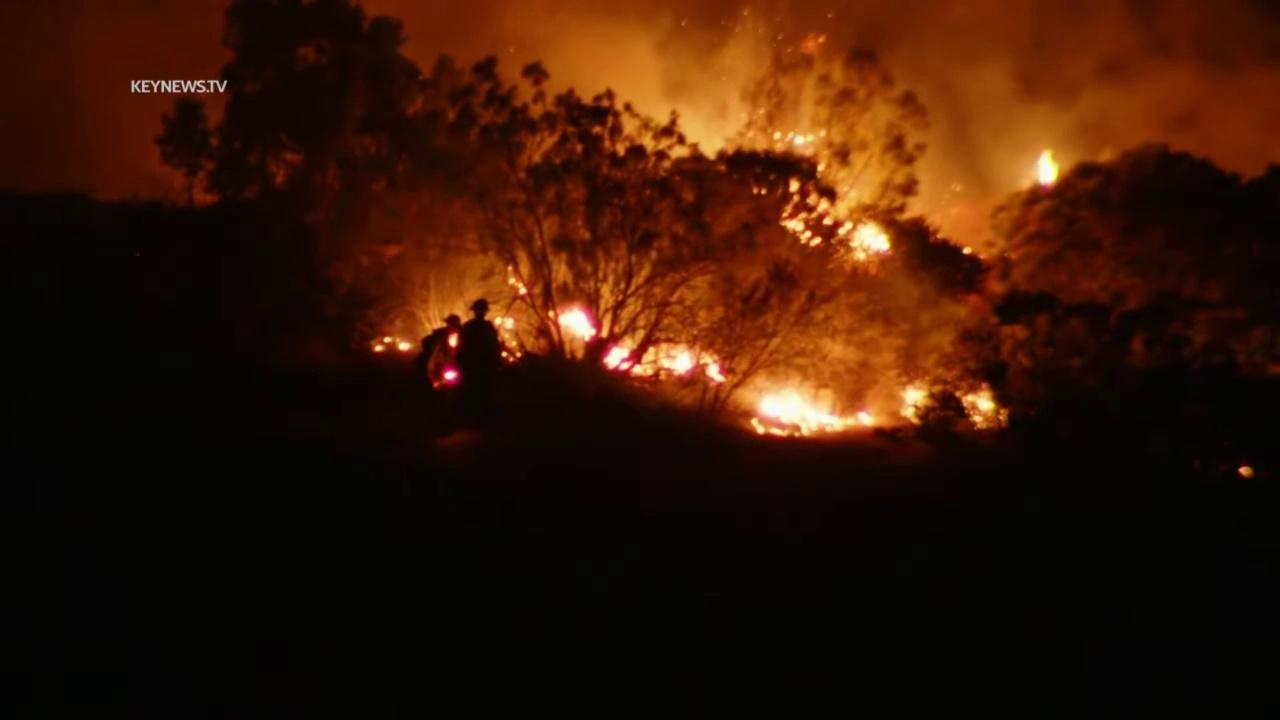fire: (750, 384, 875, 443), (895, 380, 1010, 434), (776, 161, 836, 249), (838, 216, 894, 265), (657, 349, 728, 384), (545, 304, 599, 343), (601, 342, 644, 386), (492, 314, 526, 364), (1034, 147, 1061, 190), (771, 129, 829, 147), (503, 264, 530, 297), (373, 335, 415, 355), (440, 366, 463, 386), (1235, 464, 1256, 480), (447, 332, 460, 350), (961, 245, 975, 257)
smoke: (0, 0, 1280, 260)
